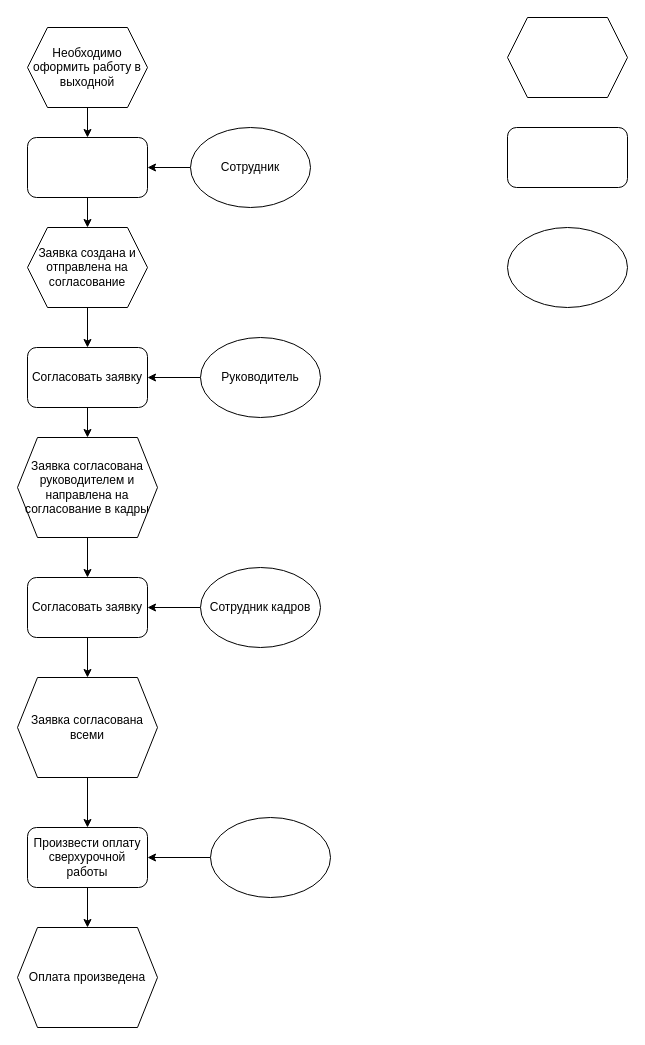
The diagram is 645 pixels wide and 1045 high, and some of its shapes have lost their labels. The shapes that lost their labels are listed below. From the top down, each one's box as (x1, y1, x2, y2) in pixels, then its label:
(506, 16, 628, 98): Событие
(26, 136, 148, 198): Создать заявку на РВД
(506, 126, 628, 188): Действие
(506, 226, 628, 308): Исполнитель
(210, 816, 330, 898): Бухгалтер
